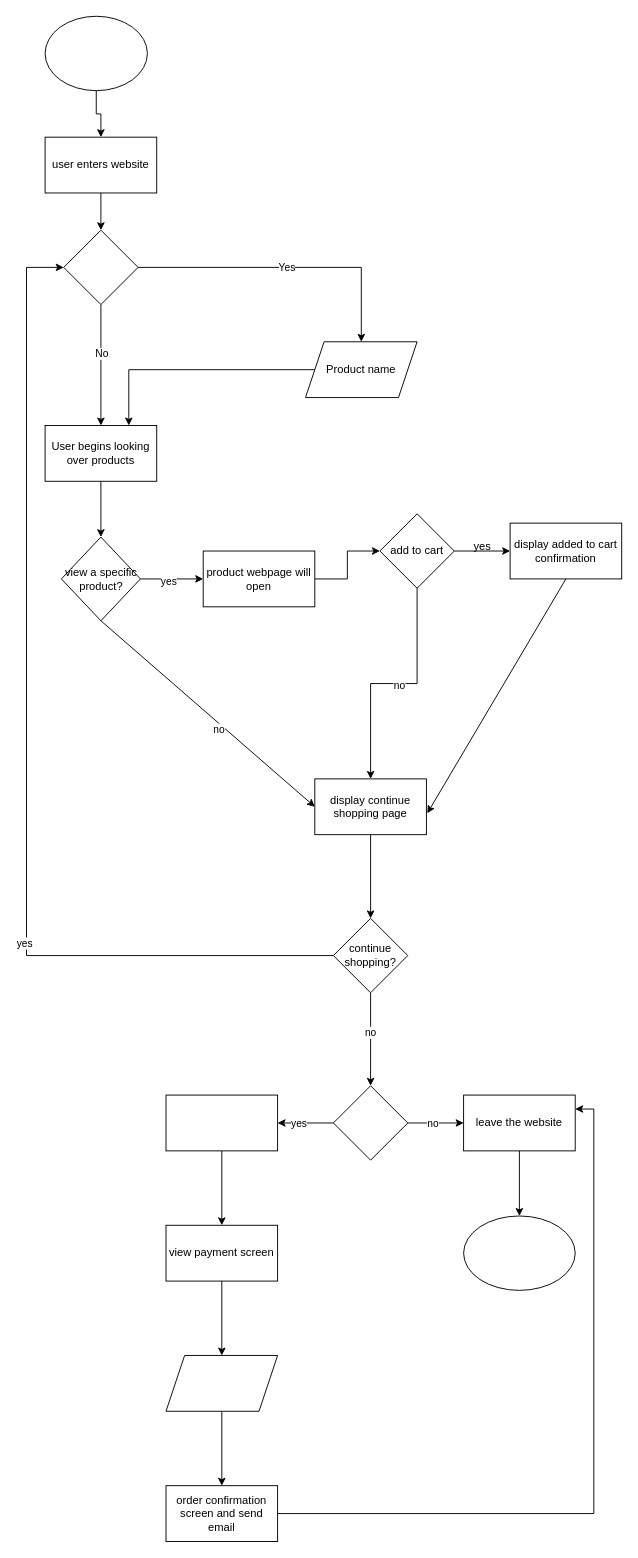
Image size: 638x1558. Some labels were removed from this diagram. Each missing label, with the centre of its shape:
"checkout?" belongs at [370,1122].
"END" belongs at [519,1252].
"input payment information" belongs at [221,1383].
"search?" belongs at [100,267].
"START" belongs at [95,53].
"view cart screen" belongs at [221,1122].
